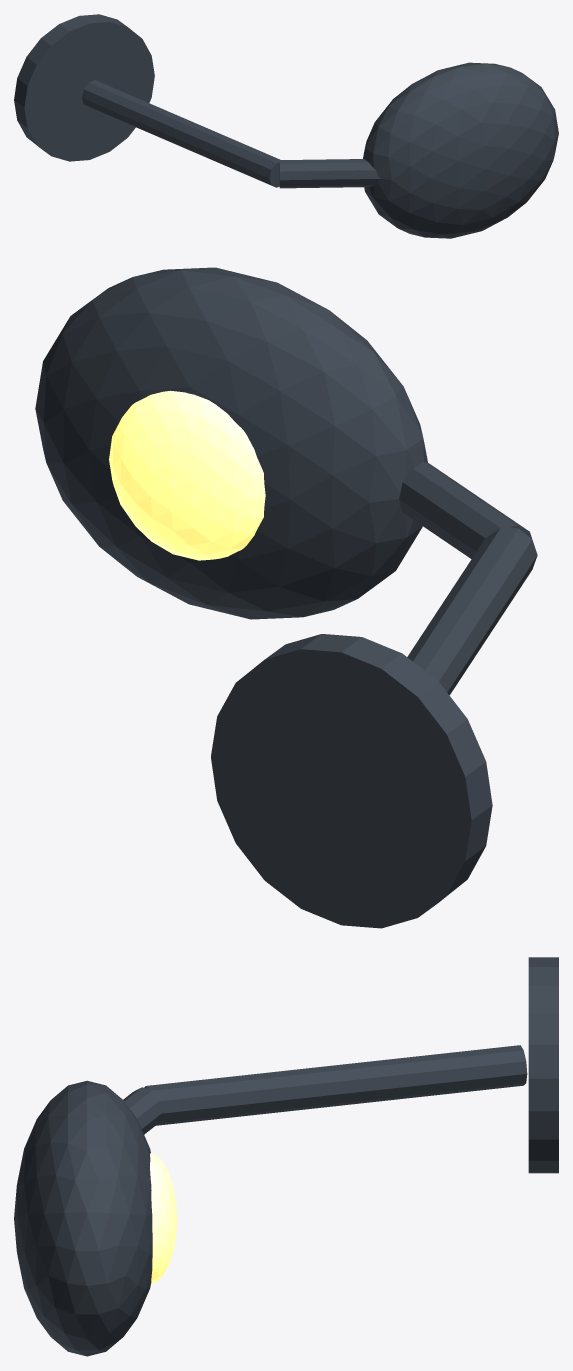
Rendered from DESK_LAMP_SLIM_001.glb.
The picture shows the model from 3 angles, top to bottom: view 1: azimuth 30°, elevation 25°; view 2: azimuth 150°, elevation 25°; view 3: azimuth 270°, elevation 25°; orthographic projection. The views are drawn at different scales.
Visible parts, largest first — view 1: shade_003, base_000, arm1_001, arm2_002; view 2: shade_003, base_000, warm_bulb_004, arm1_001, arm2_002; view 3: shade_003, arm1_001, base_000, warm_bulb_004, arm2_002.
Part boxes in pixels (bbox=[...]): shade_003: bbox=[363, 62, 558, 238]; base_000: bbox=[14, 14, 154, 161]; arm1_001: bbox=[82, 80, 281, 187]; arm2_002: bbox=[279, 159, 379, 188]; shade_003: bbox=[35, 267, 427, 619]; base_000: bbox=[211, 634, 492, 928]; warm_bulb_004: bbox=[109, 390, 265, 560]; arm1_001: bbox=[407, 527, 537, 695]; arm2_002: bbox=[399, 461, 531, 558]; shade_003: bbox=[14, 1080, 152, 1356]; arm1_001: bbox=[144, 1045, 527, 1125]; base_000: bbox=[528, 957, 558, 1173]; warm_bulb_004: bbox=[150, 1153, 177, 1283]; arm2_002: bbox=[123, 1087, 161, 1134].
Bounding box in the file's own units: 0.522 × 0.22 × 0.451.
